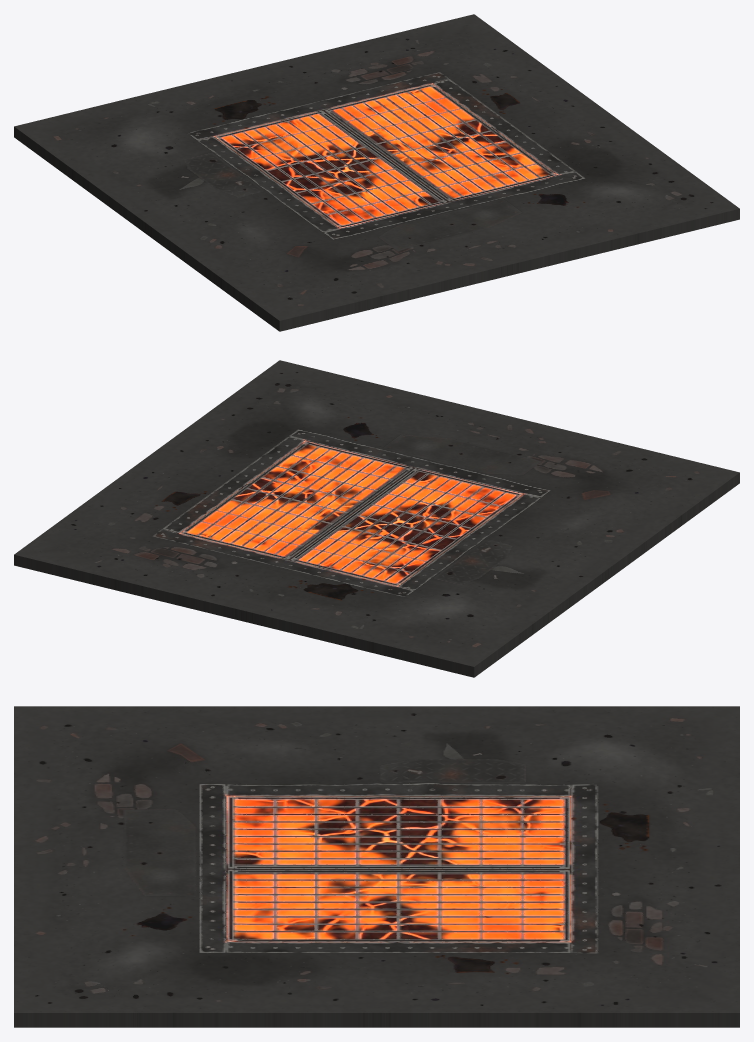
The model's file is foundry_floor_b.glb.
3 views of the same model, one above another, from view 1: azimuth 30°, elevation 25°; view 2: azimuth 150°, elevation 25°; view 3: azimuth 270°, elevation 25° (orthographic). The views are drawn at different scales.
Visible parts, largest first — view 1: foundry_floor_b; view 2: foundry_floor_b; view 3: foundry_floor_b.
Boxes of the visible parts, <box> form: foundry_floor_b: <box>14,14,739,331</box>; foundry_floor_b: <box>14,360,739,677</box>; foundry_floor_b: <box>14,706,739,1027</box>.
Bounding box in the file's own units: 4 × 0.14 × 4.
Materials: 1 (1 with a texture image).
